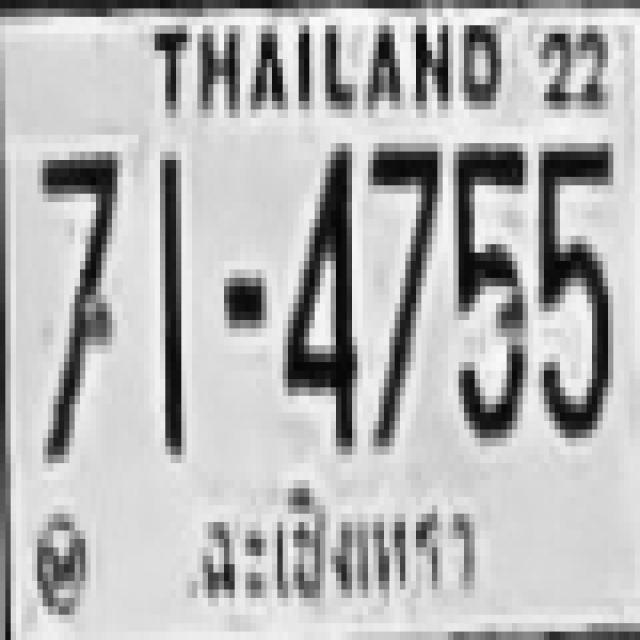1: (157, 152, 179, 446)
4: (277, 139, 352, 442)
5: (533, 135, 608, 429), (448, 135, 523, 429)
7: (40, 143, 115, 455), (368, 139, 437, 442), (40, 143, 115, 354), (368, 139, 437, 349)
Chachoengsao: (187, 475, 492, 621)
